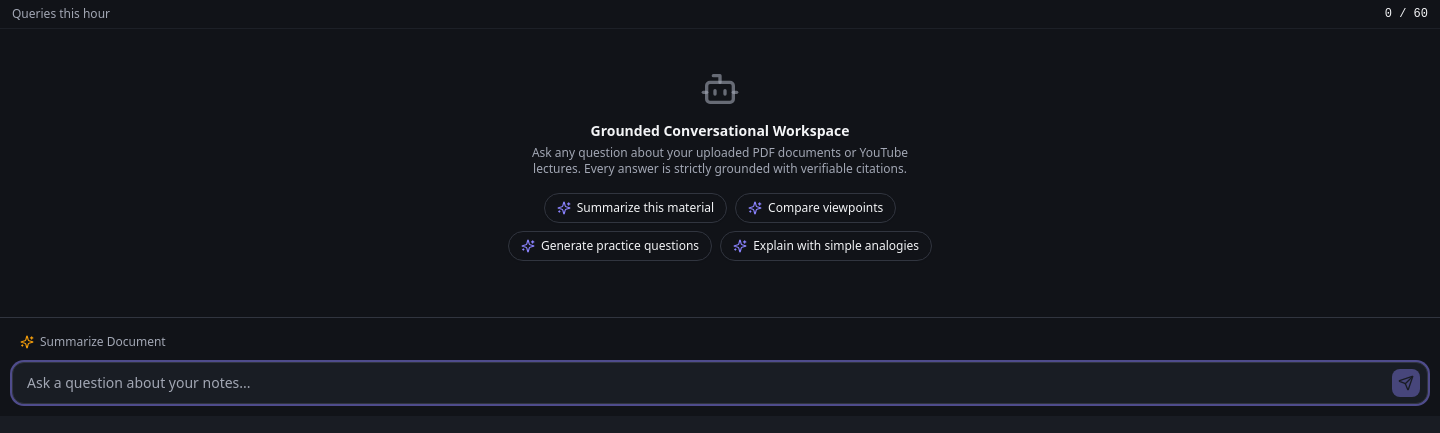
Test case: Phase 3: Calibrated Refusal & Rate Limit 429 UI Handling › test_calibrated_refusal_renders_clear_notice
Type "Explain quantum gravity refusal in classical notes" into the text box with test id "chat-input" at (720, 383), box left=12, top=362, right=1428, bottom=404
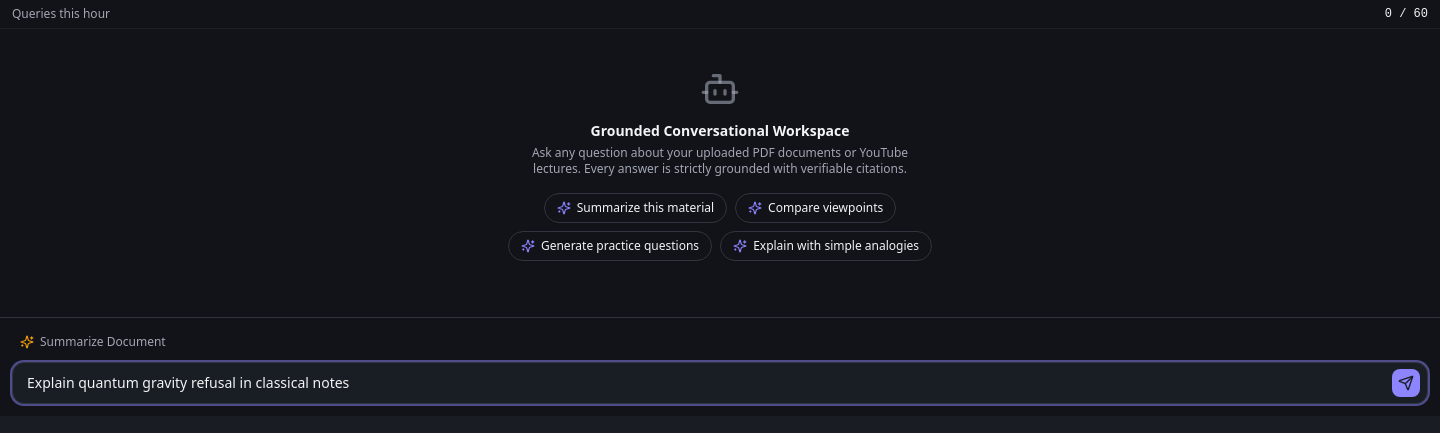
Click the button with test id "send-message-button" at (1406, 383), box left=1392, top=369, right=1420, bottom=397
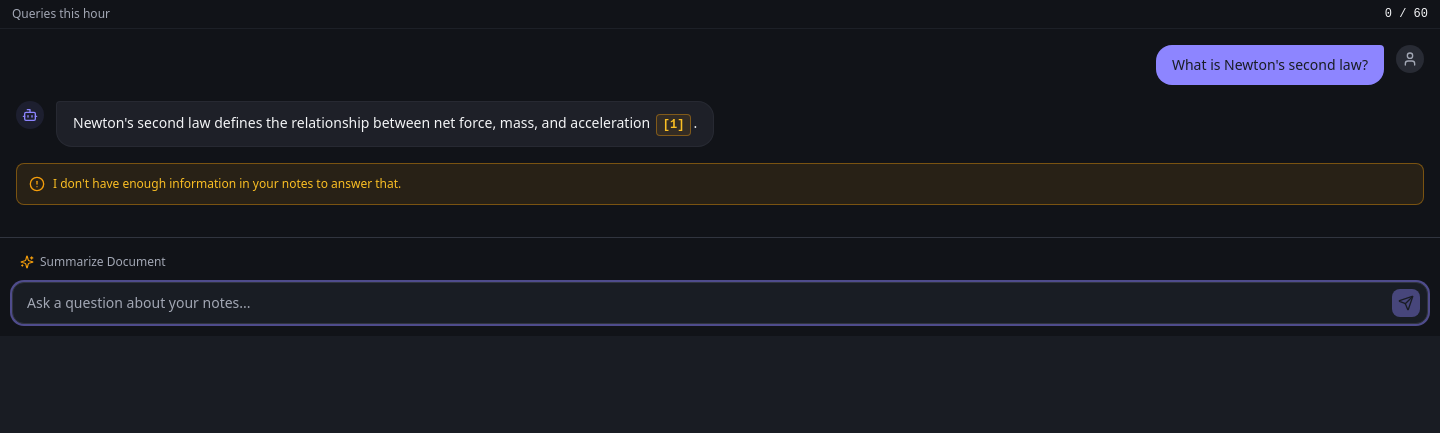
Now the element with test id "calibrated-refusal-notice" is shown, box left=16, top=163, right=1424, bottom=205
Now the element with test id "calibrated-refusal-notice" reads "I don't have enough information in your notes to answer that.", box left=53, top=175, right=401, bottom=192
